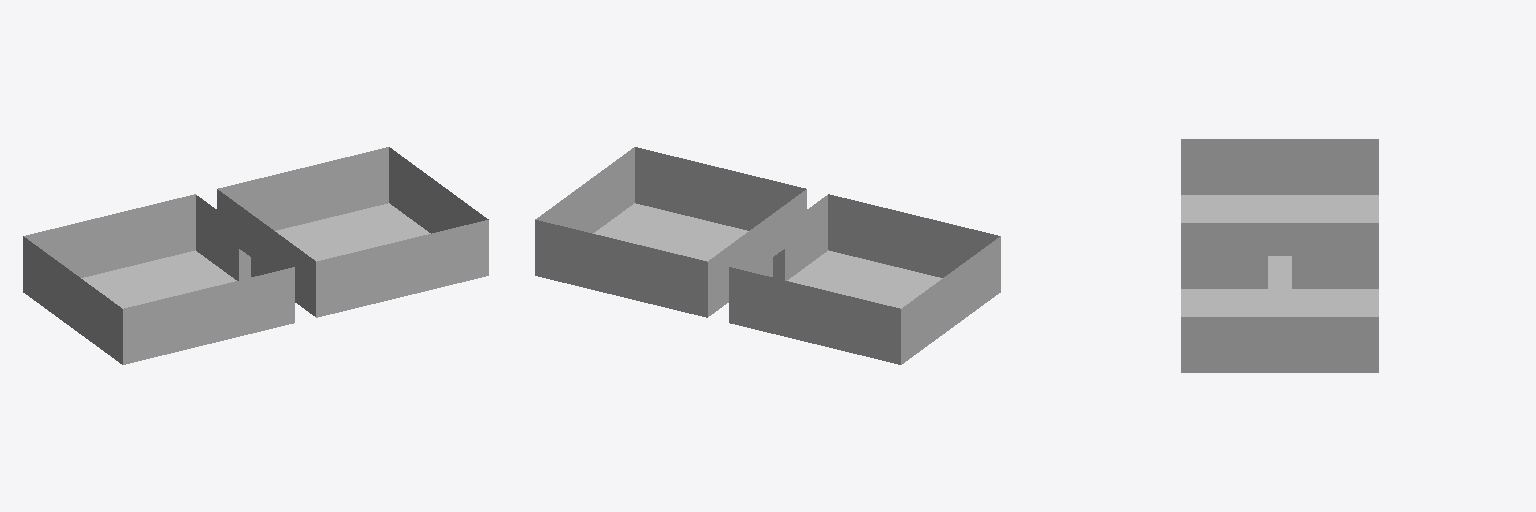
Rendered from test 3 walls3.obj.
3 renders of one model, left to right at view 1: azimuth 30°, elevation 25°; view 2: azimuth 150°, elevation 25°; view 3: azimuth 270°, elevation 25°, orthographic.
Parts seen in each view (by area): view 1: Plane.002, Plane.001; view 2: Plane.002, Plane.001; view 3: Plane.002, Plane.001.
Part boxes in pixels (x1,y1,x2,y2): Plane.002: (23, 147, 488, 364); Plane.001: (81, 203, 430, 308); Plane.002: (535, 147, 1000, 364); Plane.001: (593, 203, 942, 308); Plane.002: (1181, 139, 1378, 372); Plane.001: (1181, 195, 1378, 316).
Bounding box in the file's own units: 34 × 5 × 16.